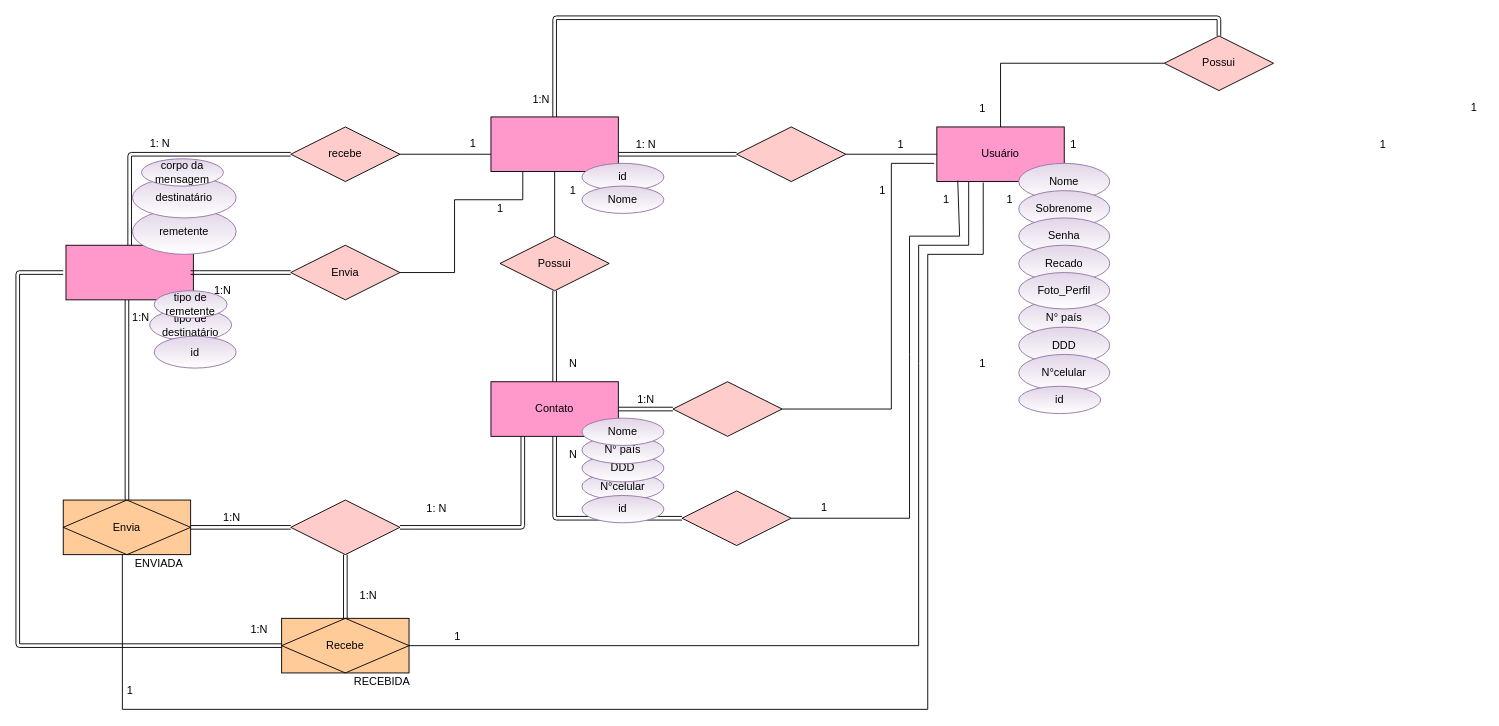
Image size: 1499x726. Some labels were removed from this diagram. Each missing label, with the centre of its shape:
Adiciona: point (727, 408)
Administra: point (736, 518)
Cria: point (791, 154)
Grupo: point (554, 144)
Mensagem: point (129, 272)
vincula: point (345, 527)
